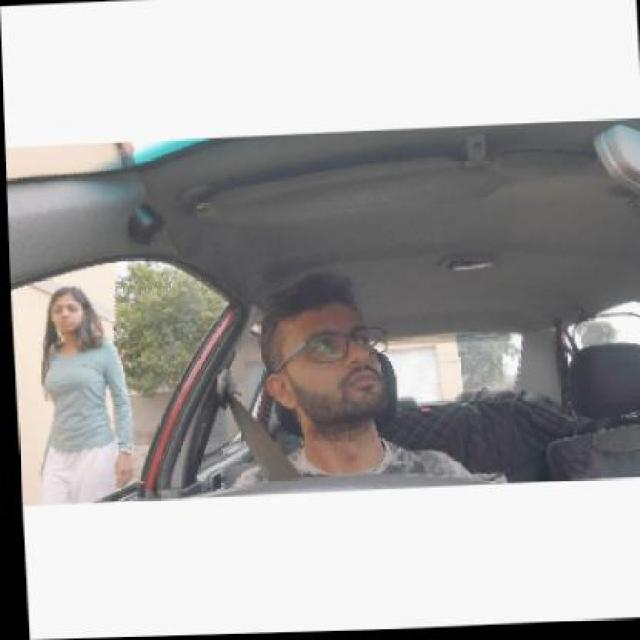person: (253, 268, 402, 448)
